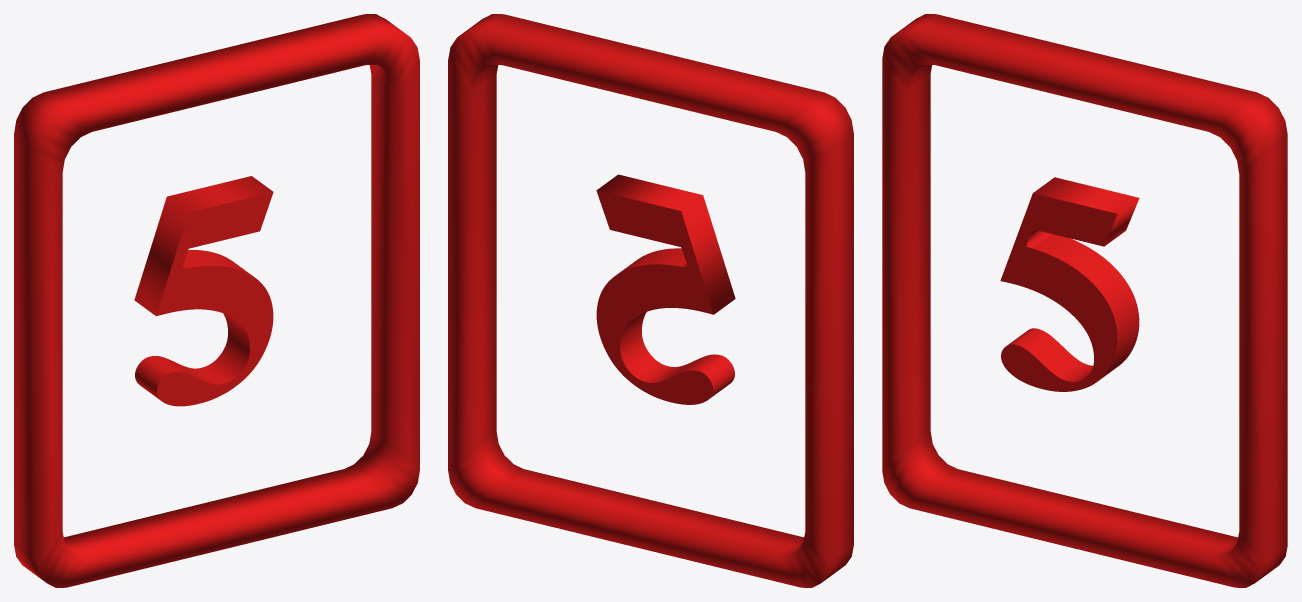
Rendered from Number_5.gltf.
3 views of the same model, side by side, from view 1: azimuth 30°, elevation 25°; view 2: azimuth 150°, elevation 25°; view 3: azimuth 330°, elevation 25° (orthographic).
Visible parts, largest first — view 1: Numbers.006; view 2: Numbers.006; view 3: Numbers.006.
Boxes of the visible parts, x1=… form: Numbers.006: x1=14, y1=14, x2=419, y2=587; Numbers.006: x1=448, y1=14, x2=853, y2=587; Numbers.006: x1=882, y1=14, x2=1287, y2=587.
Size of the model in its own units: 1 by 1.2 by 0.1143.
